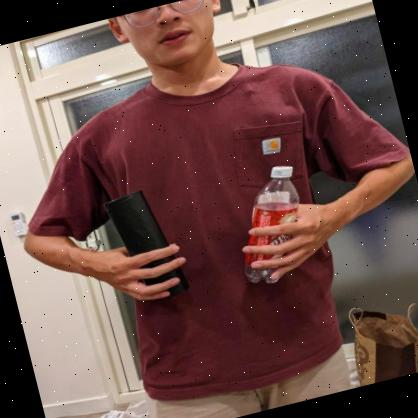bottle: (218, 163, 319, 286)
cap: (267, 160, 296, 182)
label: (239, 197, 302, 273)
